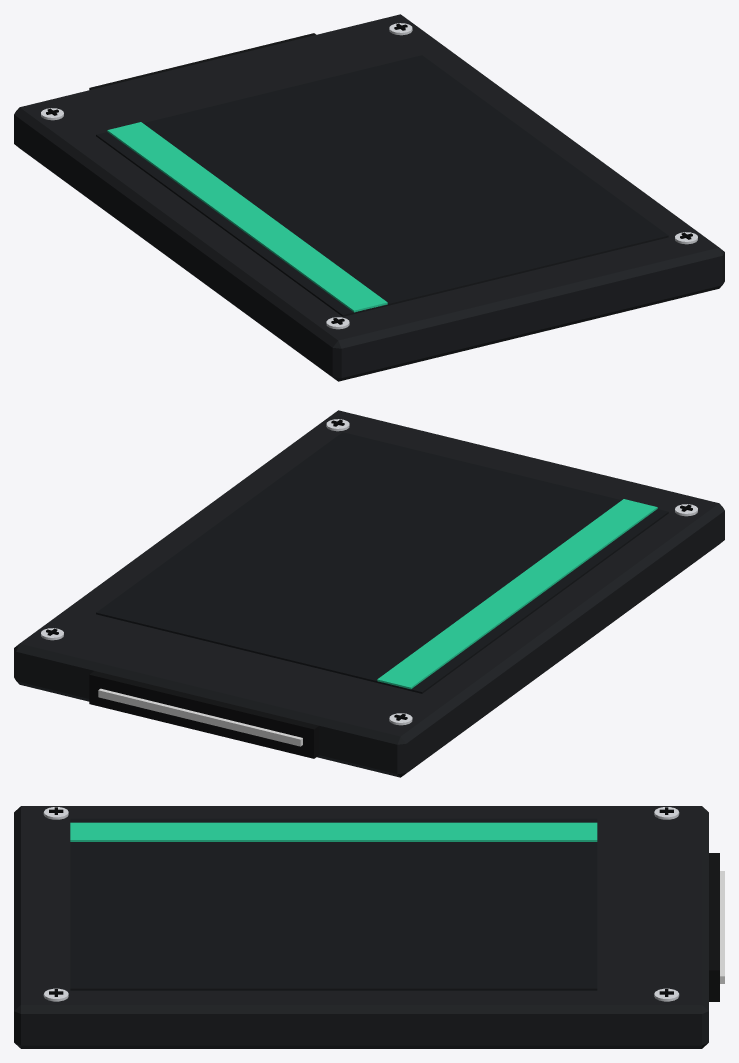
The model's file is hw_sto_ssd_480gb.glb.
The picture shows the model from 3 angles, top to bottom: view 1: azimuth 30°, elevation 25°; view 2: azimuth 150°, elevation 25°; view 3: azimuth 270°, elevation 25°; orthographic projection. The views are drawn at different scales.
Visible parts, largest first — view 1: Body; view 2: Body; view 3: Body.
Boxes of the visible parts, bbox=[...] form: Body: bbox=[14, 14, 724, 381]; Body: bbox=[14, 410, 724, 777]; Body: bbox=[14, 806, 724, 1048].
Size of the model in its own units: 0.0698 by 0.00767 by 0.1025.
